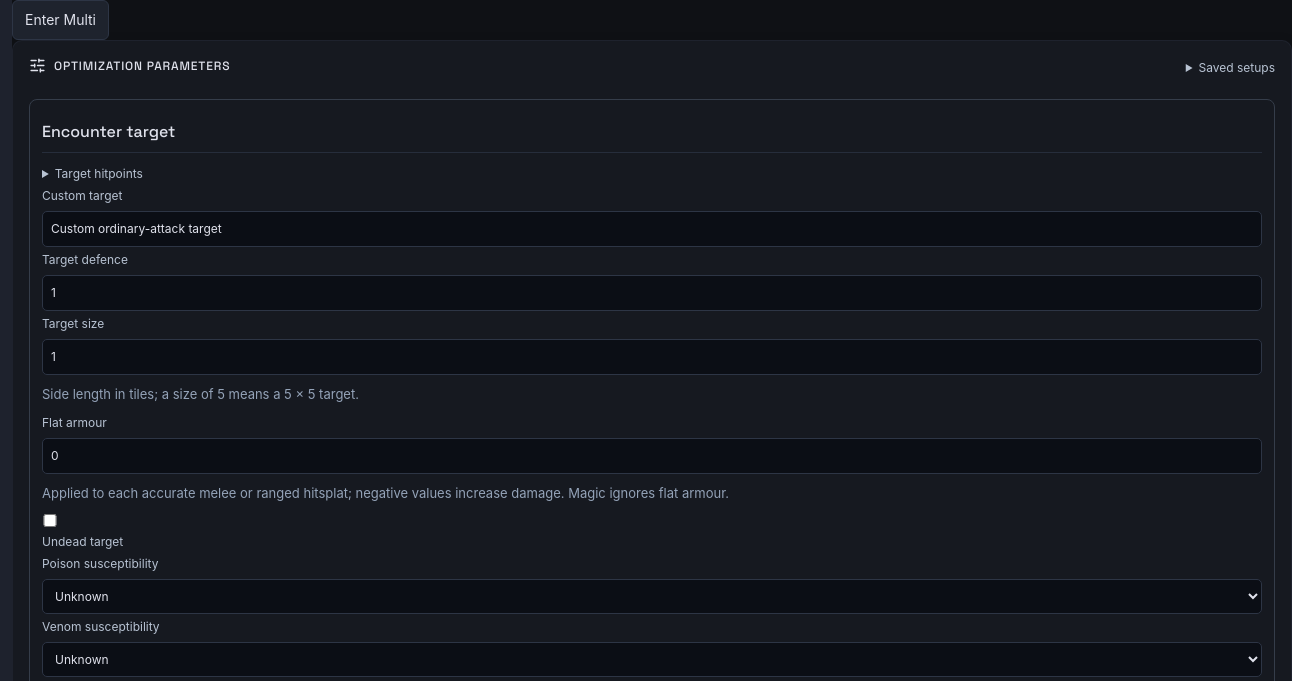
Test: loads a saved trip with an explicitly uncapped loss
Click the heading "Saved setups" at (1230, 68), box [1186, 59, 1275, 77]
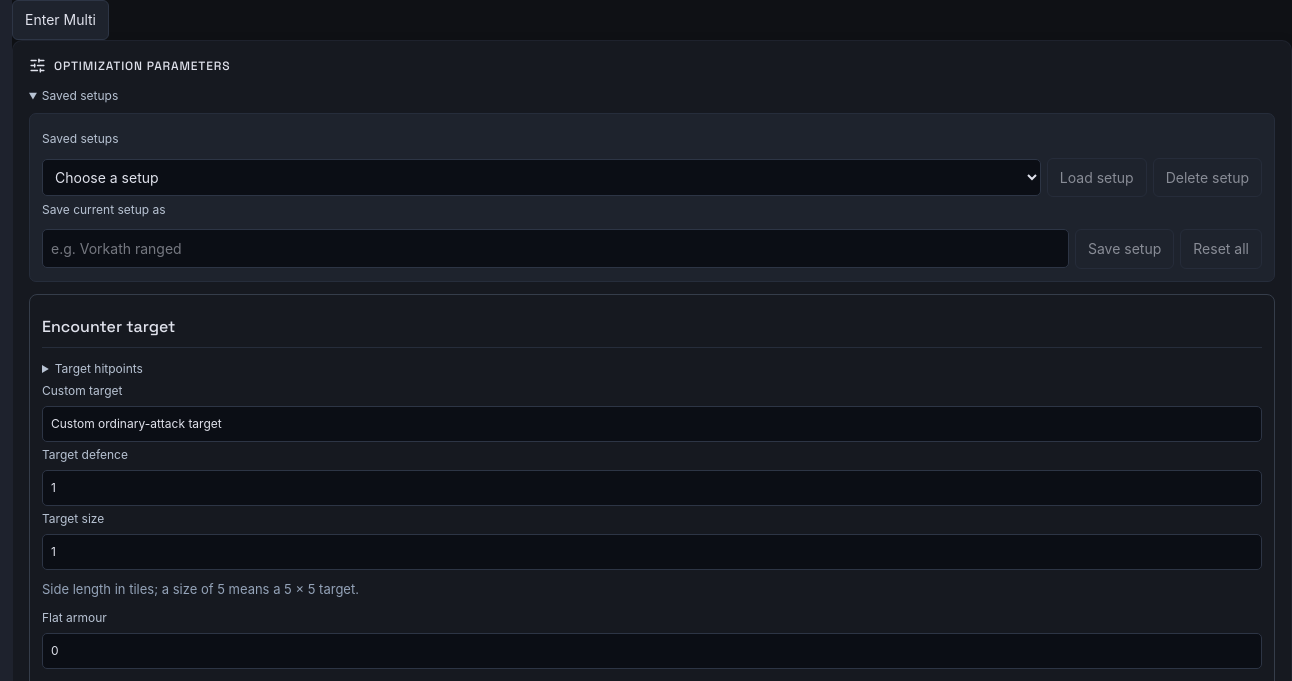
Select "Uncapped trip" in the dropdown labelled "Saved setups" at (541, 177), box [42, 159, 1041, 196]
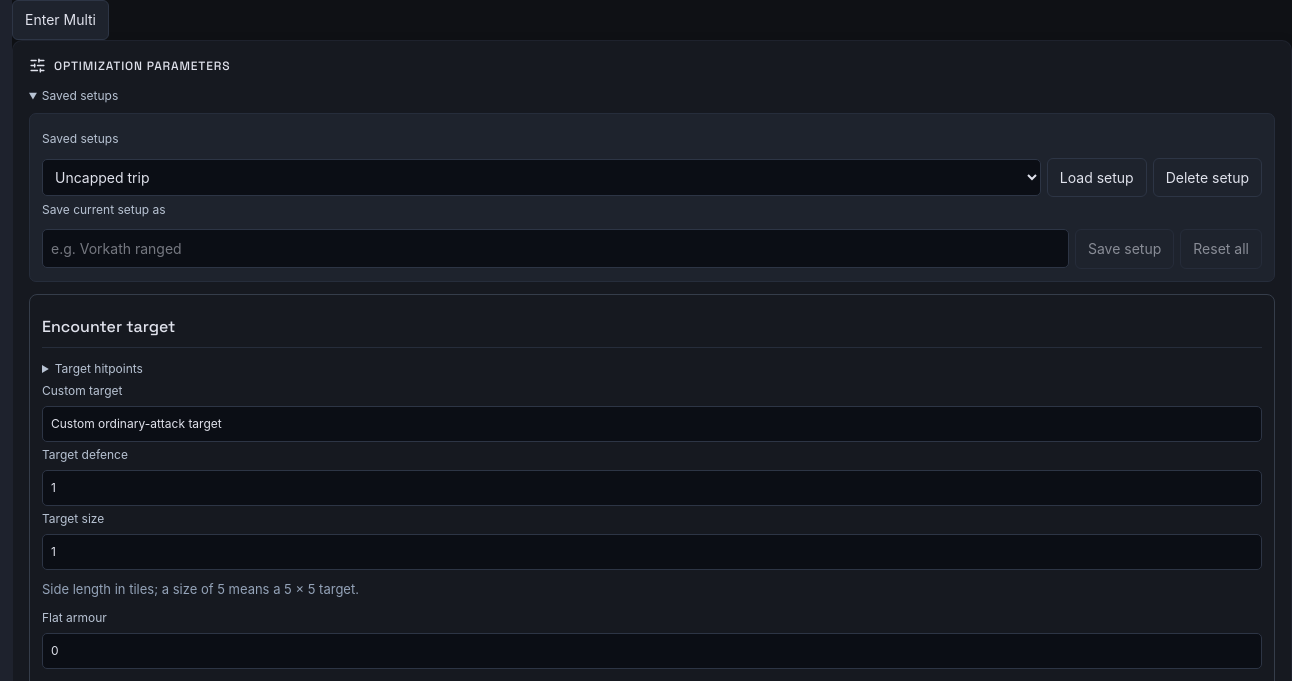
Click the button "Load setup" at (1097, 177), box [1047, 158, 1147, 197]
(page scrolled)
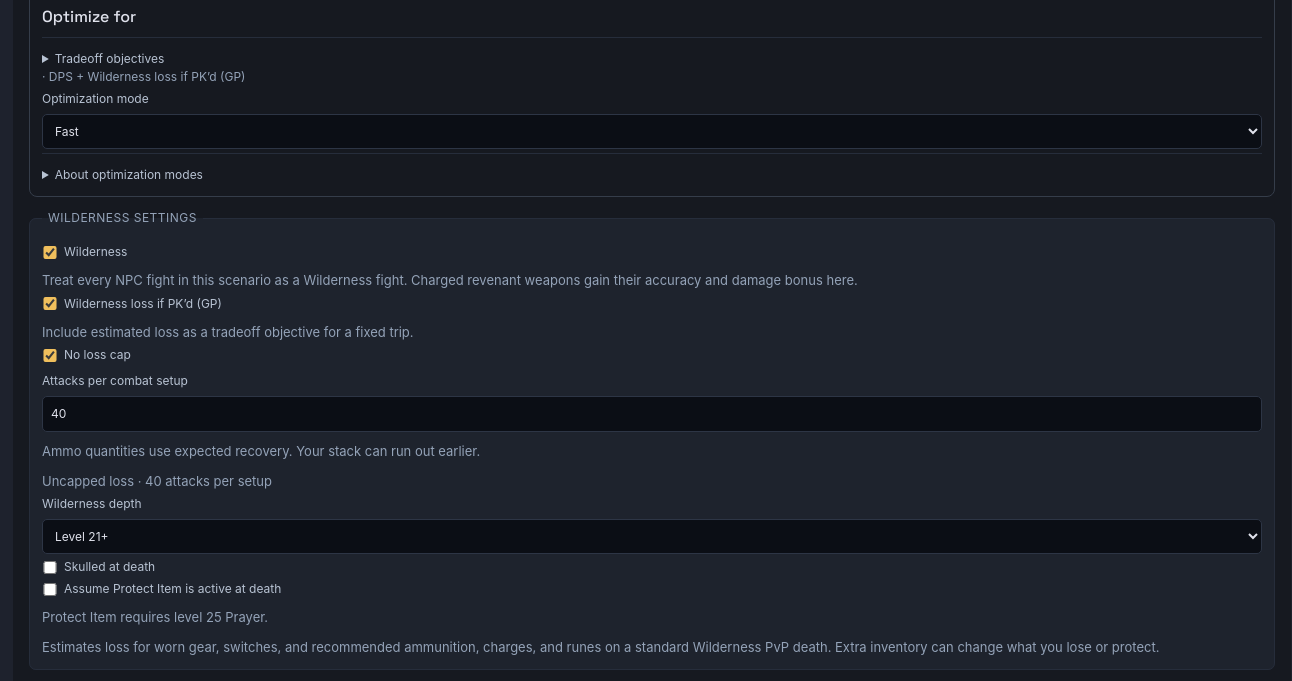
Now the checkbox labelled "No loss cap" is checked, box [42, 349, 58, 362]
Now the field labelled "Attacks per combat setup" holds "40", box [42, 396, 1262, 432]
